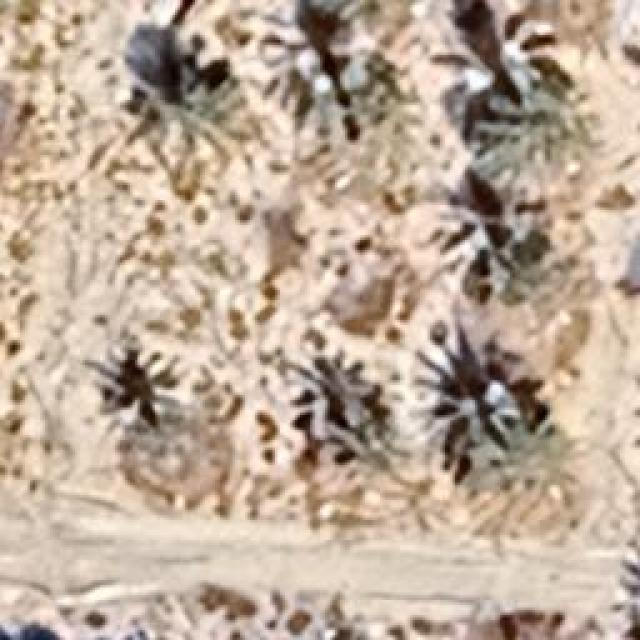PalmTree: (120, 67, 255, 195), (471, 45, 591, 173), (415, 380, 525, 480), (472, 206, 578, 306), (94, 342, 192, 426), (287, 350, 375, 432), (304, 12, 368, 118), (455, 604, 560, 638)
